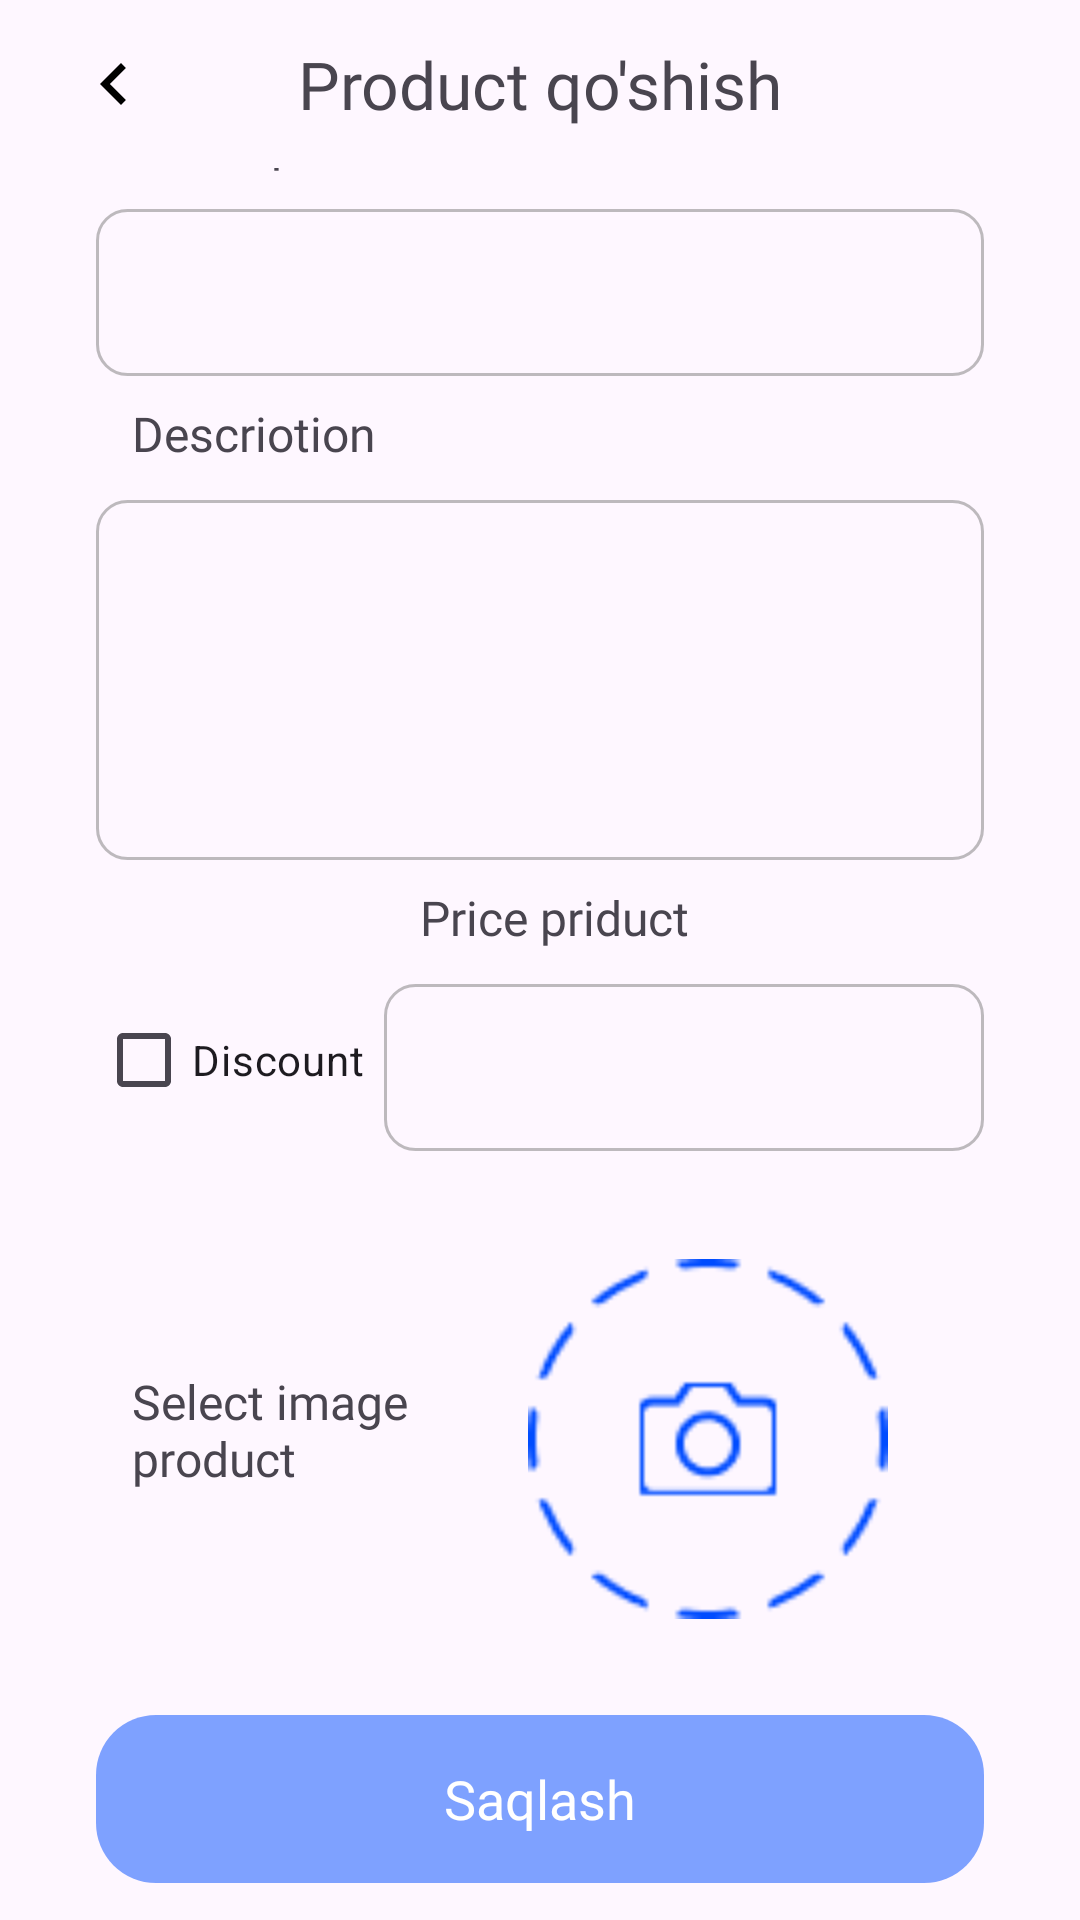

Icons on this 1080×1920 Android screen, each with the point to tap as [x,y]:
left: [113,84]
